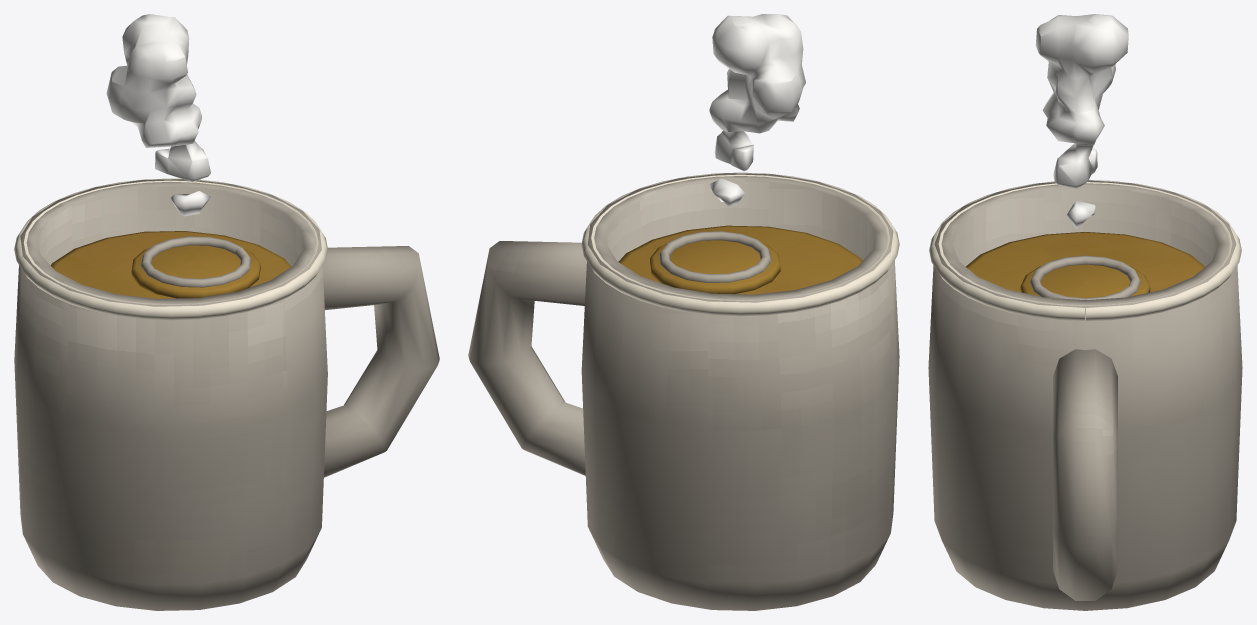
File: mug_yuzu.glb
3 renders of one model, left to right at view 1: azimuth 30°, elevation 25°; view 2: azimuth 150°, elevation 25°; view 3: azimuth 270°, elevation 25°, orthographic.
Parts seen in each view (by area): view 1: mug_yuzu_felt_cream, mug_yuzu_steam8, mug_yuzu_felt_yellow, mug_yuzu_thread; view 2: mug_yuzu_felt_cream, mug_yuzu_steam8, mug_yuzu_felt_yellow, mug_yuzu_thread; view 3: mug_yuzu_felt_cream, mug_yuzu_steam8, mug_yuzu_felt_yellow, mug_yuzu_thread.
Part boxes in pixels (x1,y1,x2,y2): mug_yuzu_felt_cream: (14,179,439,610); mug_yuzu_steam8: (106,14,210,216); mug_yuzu_felt_yellow: (51,231,291,298); mug_yuzu_thread: (14,178,327,320); mug_yuzu_felt_cream: (468,173,899,610); mug_yuzu_steam8: (709,14,805,206); mug_yuzu_felt_yellow: (618,225,862,294); mug_yuzu_thread: (581,172,899,316); mug_yuzu_felt_cream: (928,180,1242,610); mug_yuzu_steam8: (1035,14,1128,228); mug_yuzu_felt_yellow: (966,232,1204,297); mug_yuzu_thread: (929,180,1241,320).
Bounding box in the file's own units: 0.192 × 0.2446 × 0.131.
4 materials, 2 textured.
